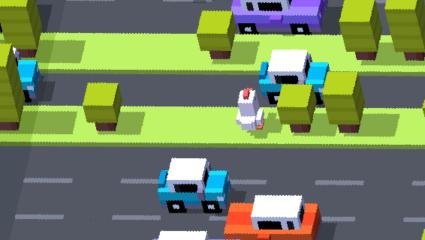hen: (236, 88, 264, 129)
obstacle: (227, 195, 320, 240), (158, 159, 231, 214), (259, 51, 327, 106), (231, 0, 326, 34), (322, 72, 363, 133), (340, 0, 382, 57), (0, 45, 25, 132), (0, 0, 34, 59), (385, 0, 423, 52), (81, 83, 121, 132), (277, 85, 315, 133), (196, 10, 232, 59), (8, 47, 40, 101), (147, 231, 209, 240), (404, 51, 425, 60), (356, 52, 378, 60)
